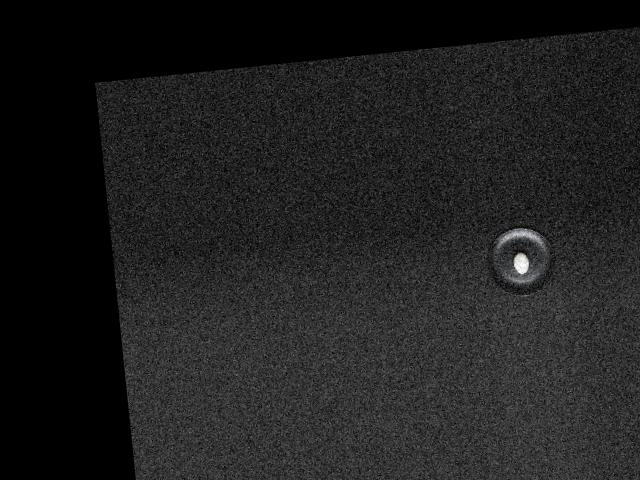egg: (512, 251, 529, 274)
